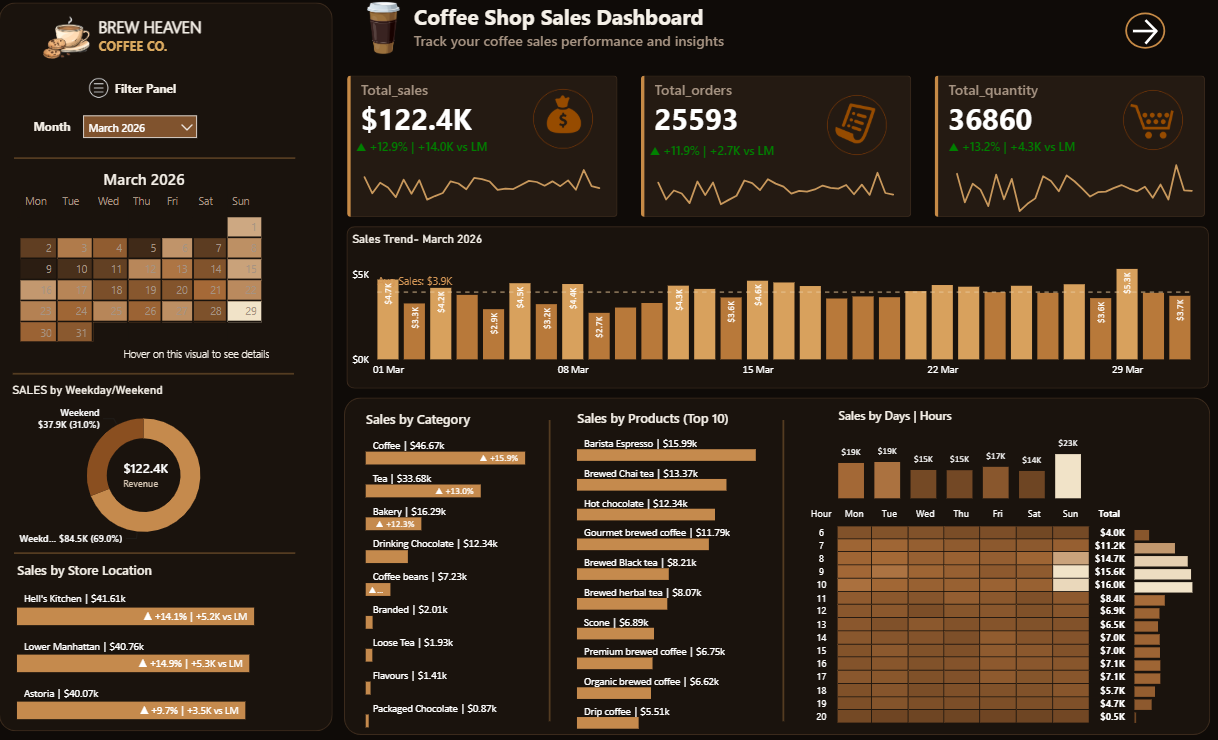

What the dashboard file says about the page in this screenshot:
{"tool":"powerbi","page":{"name":"Coffee Shop Sales ","canvas":[1400,850],"ordinal":0},"visuals":[{"type":"shape","box":[11.4,8.5,380.3,830.3],"z":0},{"type":"group","id":"g1","title":"Panel open Button","box":[1294.7,19.9,55.5,41.3],"z":0,"group":"g13"},{"type":"actionButton","box":[1297.5,22.7,52.7,38.5],"z":0,"group":"g1"},{"type":"cardVisual","fields":{"Data":["Transactions.Total_orders"]},"box":[736.3,85,320,173],"z":0,"group":"g2"},{"type":"group","id":"g2","title":"Group 1","box":[736.3,85,320,173.6],"z":0,"group":"g11"},{"type":"cardVisual","fields":{"Data":["Transactions.TOTAL SALES"]},"box":[401.6,85.4,320,173],"z":0,"group":"g3"},{"type":"group","id":"g3","title":"Group 1","box":[401.6,85.4,320,173],"z":0,"group":"g10"},{"type":"cardVisual","fields":{"Data":["Transactions.Total_Quantity"]},"box":[1071.1,85.5,320.5,173],"z":0,"group":"g4"},{"type":"group","id":"g4","title":"Group 1","box":[1071.1,85.5,320.5,173],"z":0,"group":"g12"},{"type":"image","box":[592.5,95.4,123.9,91.2],"z":0,"group":"g5"},{"type":"image","box":[1265.1,96.4,123.9,91.2],"z":0,"group":"g6"},{"type":"image","box":[927.5,102.5,123,91],"z":0,"group":"g7"},{"type":"shape","box":[407.2,263,982.7,185.2],"z":0,"group":"g9"},{"type":"shape","box":[404,459,987,384.6],"z":0,"group":"g8"},{"type":"textbox","box":[413,4.3,507,81.2],"z":1000},{"type":"shape","box":[1294.7,19.9,45.6,41.3],"z":1000,"group":"g1"},{"type":"group","id":"g5","title":"Group 5","box":[592.5,95.4,123.9,91.2],"z":1000,"group":"g10"},{"type":"group","id":"g6","title":"Group 6","box":[1265.1,96.4,123.9,91.2],"z":1000,"group":"g12"},{"type":"group","id":"g7","title":"Group 3","box":[927.5,102.5,123,91],"z":1000,"group":"g11"},{"type":"image","box":[633.8,111.1,42.7,49.8],"z":1000,"group":"g5"},{"type":"image","box":[1300.7,114.9,49.8,57],"z":1000,"group":"g6"},{"type":"image","box":[965.2,121,45.6,49.8],"z":1000,"group":"g7"},{"type":"lineChart","fields":{"Category":["Calender_Table.Date.Variation.Date Hierarchy.Year"],"Y":["Transactions.TOTAL SALES"]},"box":[413,163,297.7,85],"z":1000,"group":"g3"},{"type":"lineChart","fields":{"Category":["Calender_Table.Date.Variation.Date Hierarchy.Year"],"Y":["Transactions.Total_Quantity"]},"box":[1088.2,164.3,297.7,92.6],"z":1000,"group":"g4"},{"type":"lineChart","fields":{"Category":["Calender_Table.Date.Variation.Date Hierarchy.Year"],"Y":["Transactions.Total_orders"]},"box":[747.7,168.2,297.7,90.4],"z":1000,"group":"g2"},{"type":"columnChart","fields":{"Category":["fact_transaction.transaction_date"],"Y":["Transactions.TOTAL SALES"]},"box":[408.7,270.2,971.4,173.8],"z":1000,"group":"g9"},{"type":"clusteredBarChart","title":"Sales by Category","fields":{"Category":["dim_product.product_category"],"Y":["Transactions.Place_Holder","Transactions.TOTAL SALES"]},"box":[423.9,473.2,243.6,367.5],"z":1000,"group":"g8"},{"type":"slicer","fields":{"Values":["Calender_Table.Month_Year"]},"box":[102.9,132,139.6,37],"z":2000},{"type":"clusteredBarChart","title":"Sales by Products (Top 10)","fields":{"Category":["dim_product.product_type"],"Y":["Transactions.Place_Holder","Transactions.TOTAL SALES"]},"box":[664.6,471.8,264.9,370.3],"z":2000,"group":"g8"},{"type":"cardVisual","fields":{"Data":["Transactions.Foot_note"]},"box":[124.3,384.3,227.9,48.4],"z":3000},{"type":"pivotTable","fields":{"Columns":["Calender_Table.Day_Name"],"Rows":["fact_transaction.Hour"],"Values":["Transactions.TOTAL SALES"]},"box":[924.8,578.7,383.8,258.6],"z":3000,"group":"g8"},{"type":"pivotTable","fields":{"Columns":["Calender_Table.Day_Name"],"Rows":["Calender_Table.Week_Num"],"Values":["Sum(Calender_Table.Day)"]},"box":[27.1,218.6,314.3,185.7],"z":4000},{"type":"barChart","fields":{"Category":["fact_transaction.Hour"],"Y":["Transactions.TOTAL SALES"]},"box":[1299.9,597.2,92.6,237.9],"z":4000,"group":"g8"},{"type":"cardVisual","fields":{"Data":["Min(Calender_Table.Month_Year)"]},"box":[101.4,181.4,185.7,55.7],"z":5000},{"type":"columnChart","title":"Sales by Days | Hours","fields":{"Category":["Calender_Table.Day_Name"],"Y":["Transactions.TOTAL SALES"]},"box":[962.2,469.9,287.7,109.7],"z":5000,"group":"g8"},{"type":"shape","box":[27.1,420.2,320.5,22.8],"z":6000},{"type":"donutChart","title":"SALES by Weekday/Weekend","fields":{"Category":["Calender_Table.Weekday/Weekend"],"Y":["Transactions.TOTAL SALES"]},"box":[21.4,442.9,310,194.3],"z":7000},{"type":"cardVisual","fields":{"Data":["Transactions.TOTAL SALES"]},"box":[123.9,511.3,118.2,69.8],"z":8000},{"type":"shape","box":[28.5,629.5,320.5,12.8],"z":9000},{"type":"clusteredBarChart","title":"Sales by Store Location","fields":{"Category":["dim_store.store_location"],"Y":["Transactions.Place_Holder","Transactions.TOTAL SALES"]},"box":[27.1,645.2,334.7,188],"z":10000},{"type":"textbox","box":[45.9,134.9,57,47],"z":11000},{"type":"textbox","box":[119.6,18.5,139.6,96.9],"z":12000},{"type":"textbox","box":[138.8,91.9,108.2,47],"z":13000},{"type":"image","box":[98.9,91.9,54.1,27.1],"z":14000},{"type":"shape","box":[28.5,179.5,320.5,12.8],"z":15000},{"type":"image","box":[59.8,18.5,57,58.4],"z":16000},{"type":"image","box":[413,5.7,72.6,62.7],"z":17000},{"type":"group","id":"g8","title":"Group 2","box":[404,459,988.4,384.6],"z":18000},{"type":"group","id":"g9","title":"Group 4","box":[407.2,263,982.7,185.2],"z":19000},{"type":"group","id":"g10","title":"Group 7","box":[401.6,85.4,320,173],"z":20000},{"type":"group","id":"g11","title":"Group 8","box":[736.3,85,320,173.6],"z":21000},{"type":"group","id":"g12","title":"Group 9","box":[1071.1,85.5,320.5,173],"z":22000},{"type":"shape","box":[626.7,484.3,24.2,343.2],"z":23000},{"type":"shape","box":[893,484.3,24.2,343.2],"z":24000},{"type":"group","id":"g13","title":"Panel Buttons","box":[1294.7,19.9,86.9,41.3],"z":25500}]}

Visuals, with their boxes in screenshot pixels (x1, y1, x2, y2), scaled from the page's 1400x850 canvas onto the 1218x740 screenshot:
shape: <box>10,7,341,730</box>
"Panel open Button" group: <box>1126,17,1175,53</box>
actionButton: <box>1129,20,1175,53</box>
cardVisual - Transactions.Total_orders: <box>641,74,919,225</box>
"Group 1" group: <box>641,74,919,225</box>
cardVisual - Transactions.TOTAL SALES: <box>349,74,628,225</box>
"Group 1" group: <box>349,74,628,225</box>
cardVisual - Transactions.Total_Quantity: <box>932,74,1211,225</box>
"Group 1" group: <box>932,74,1211,225</box>
image: <box>515,83,623,162</box>
image: <box>1101,84,1208,163</box>
image: <box>807,89,914,168</box>
shape: <box>354,229,1209,390</box>
shape: <box>351,400,1210,734</box>
textbox: <box>359,4,800,74</box>
shape: <box>1126,17,1166,53</box>
"Group 5" group: <box>515,83,623,162</box>
"Group 6" group: <box>1101,84,1208,163</box>
"Group 3" group: <box>807,89,914,168</box>
image: <box>551,97,589,140</box>
image: <box>1132,100,1175,150</box>
image: <box>840,105,879,149</box>
lineChart - Calender_Table.Date.Variation.Date Hierarchy.Year x Transactions.TOTAL SALES: <box>359,142,618,216</box>
lineChart - Calender_Table.Date.Variation.Date Hierarchy.Year x Transactions.Total_Quantity: <box>947,143,1206,224</box>
lineChart - Calender_Table.Date.Variation.Date Hierarchy.Year x Transactions.Total_orders: <box>650,146,909,225</box>
columnChart - fact_transaction.transaction_date x Transactions.TOTAL SALES: <box>356,235,1201,387</box>
"Sales by Category" clusteredBarChart: <box>369,412,581,732</box>
slicer - Calender_Table.Month_Year: <box>90,115,211,147</box>
"Sales by Products (Top 10)" clusteredBarChart: <box>578,411,809,733</box>
cardVisual - Transactions.Foot_note: <box>108,335,306,377</box>
pivotTable - Calender_Table.Day_Name x fact_transaction.Hour: <box>805,504,1138,729</box>
pivotTable - Calender_Table.Day_Name x Calender_Table.Week_Num: <box>24,190,297,352</box>
barChart - fact_transaction.Hour x Transactions.TOTAL SALES: <box>1131,520,1211,727</box>
cardVisual - Min(Calender_Table.Month_Year): <box>88,158,250,206</box>
"Sales by Days | Hours" columnChart: <box>837,409,1087,505</box>
shape: <box>24,366,302,386</box>
"SALES by Weekday/Weekend" donutChart: <box>19,386,288,555</box>
cardVisual - Transactions.TOTAL SALES: <box>108,445,211,506</box>
shape: <box>25,548,304,559</box>
"Sales by Store Location" clusteredBarChart: <box>24,562,315,725</box>
textbox: <box>40,117,90,158</box>
textbox: <box>104,16,226,100</box>
textbox: <box>121,80,215,121</box>
image: <box>86,80,133,104</box>
shape: <box>25,156,304,167</box>
image: <box>52,16,102,67</box>
image: <box>359,5,422,60</box>
"Group 2" group: <box>351,400,1211,734</box>
"Group 4" group: <box>354,229,1209,390</box>
"Group 7" group: <box>349,74,628,225</box>
"Group 8" group: <box>641,74,919,225</box>
"Group 9" group: <box>932,74,1211,225</box>
shape: <box>545,422,566,720</box>
shape: <box>777,422,798,720</box>
"Panel Buttons" group: <box>1126,17,1202,53</box>
